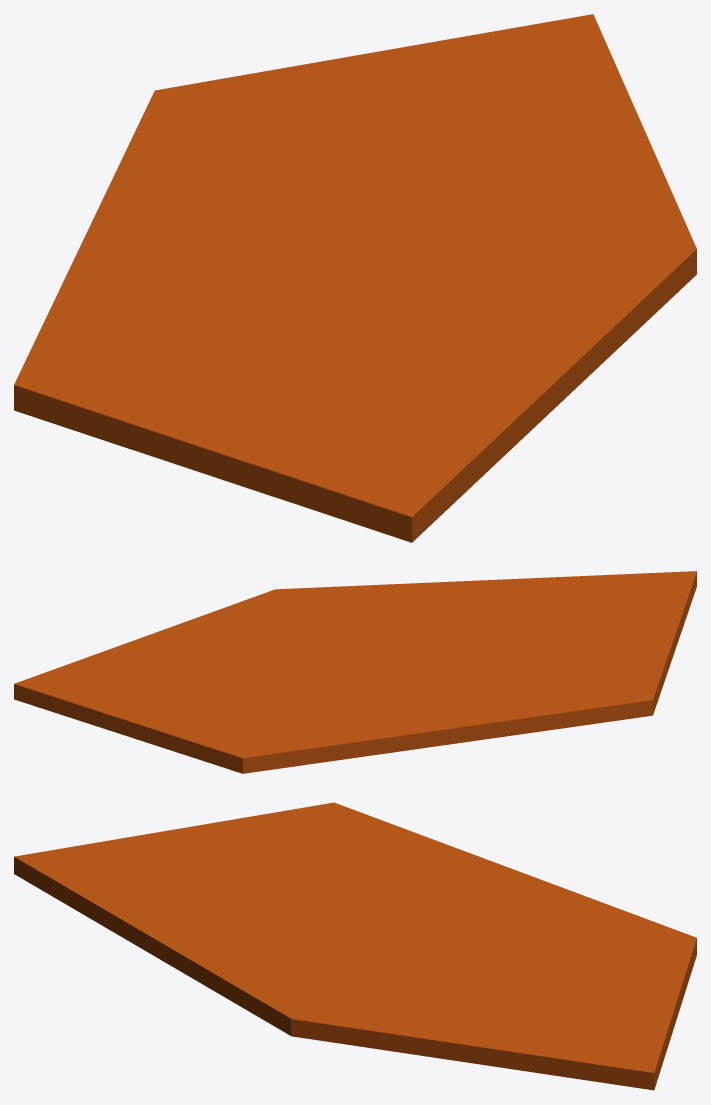
Rendered from I04_Butterfly_Wing.fbx.
3 views of the same model, one above another, from view 1: azimuth 30°, elevation 25°; view 2: azimuth 150°, elevation 25°; view 3: azimuth 270°, elevation 25° (orthographic). The views are drawn at different scales.
Parts seen in each view (by area): view 1: I04_Butterfly_Wing; view 2: I04_Butterfly_Wing; view 3: I04_Butterfly_Wing.
Boxes of the visible parts, x1,y1,x2,y2 form: I04_Butterfly_Wing: [14, 14, 696, 542]; I04_Butterfly_Wing: [14, 571, 696, 773]; I04_Butterfly_Wing: [14, 802, 696, 1090].
Bounding box in the file's own units: 0.3 × 0.009 × 0.32.
1 material, 1 textured.
